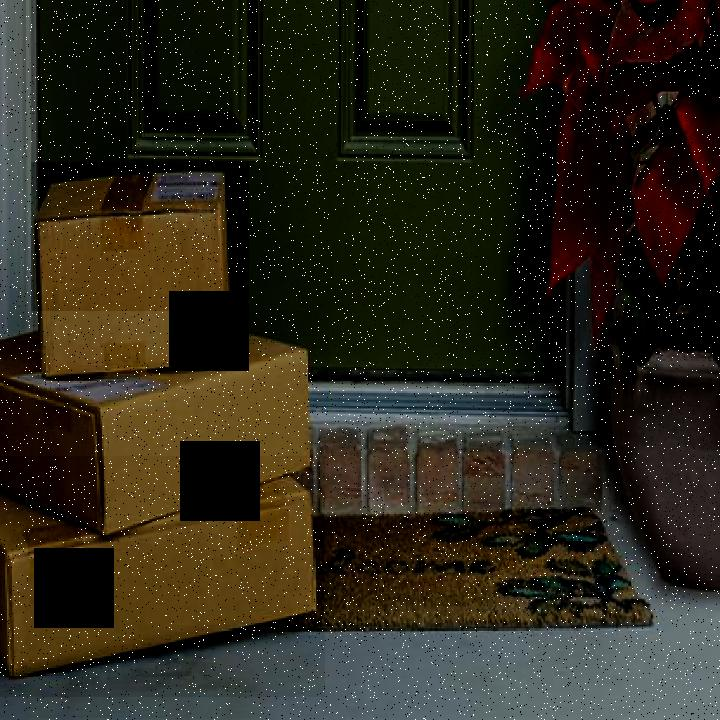box: (0, 456, 325, 697), (0, 311, 329, 541), (31, 162, 249, 402)
